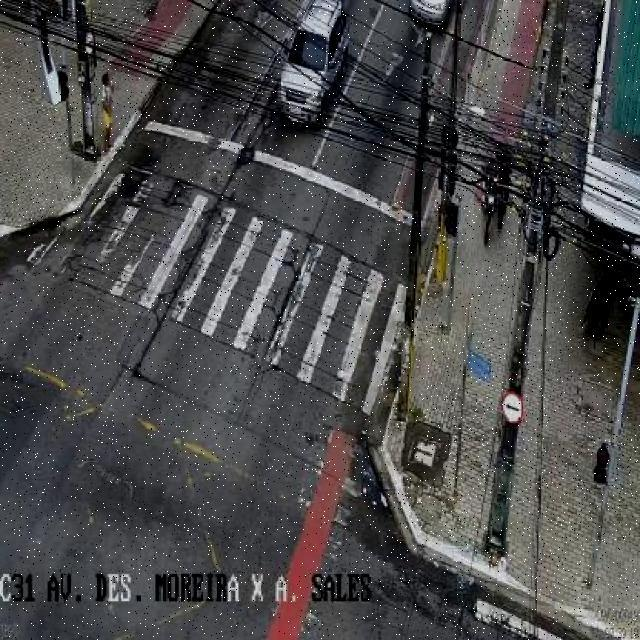Car: (263, 0, 365, 150)
